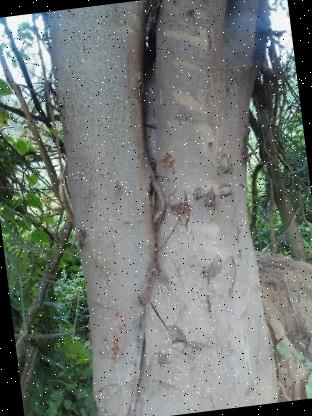tree: (37, 0, 312, 416)
